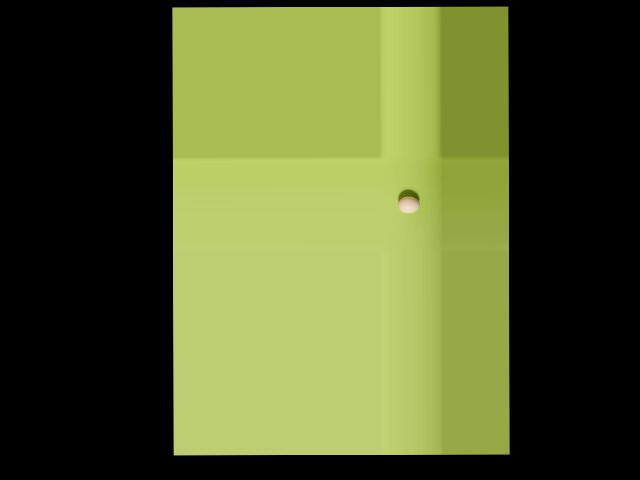egg: (398, 196, 420, 212)
